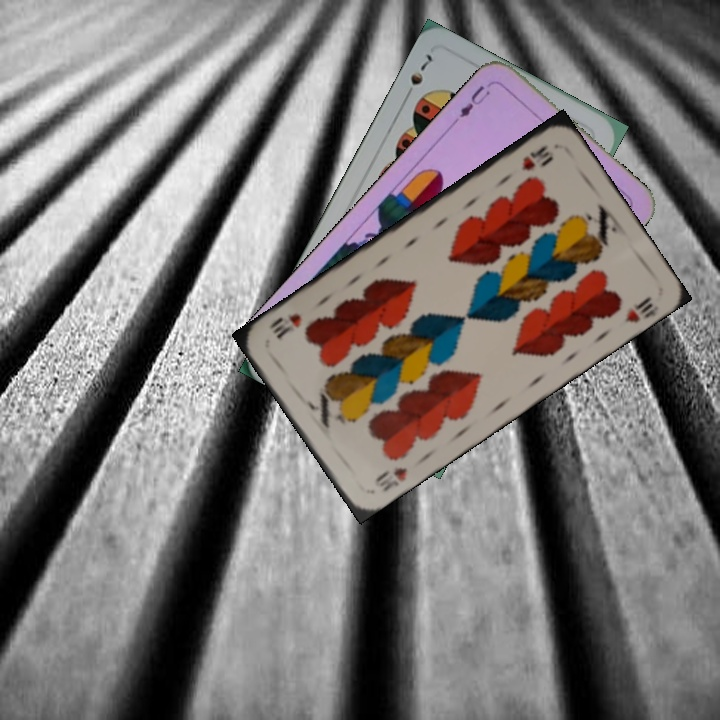EU: (450, 81, 493, 126)
H10: (517, 141, 556, 174), (370, 462, 410, 494)
S7: (400, 50, 435, 102)
